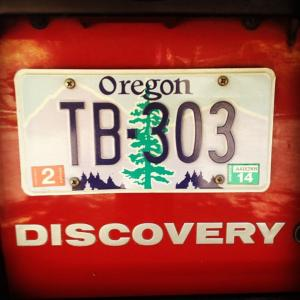Vehicle-registration-plate: (13, 67, 276, 198)
